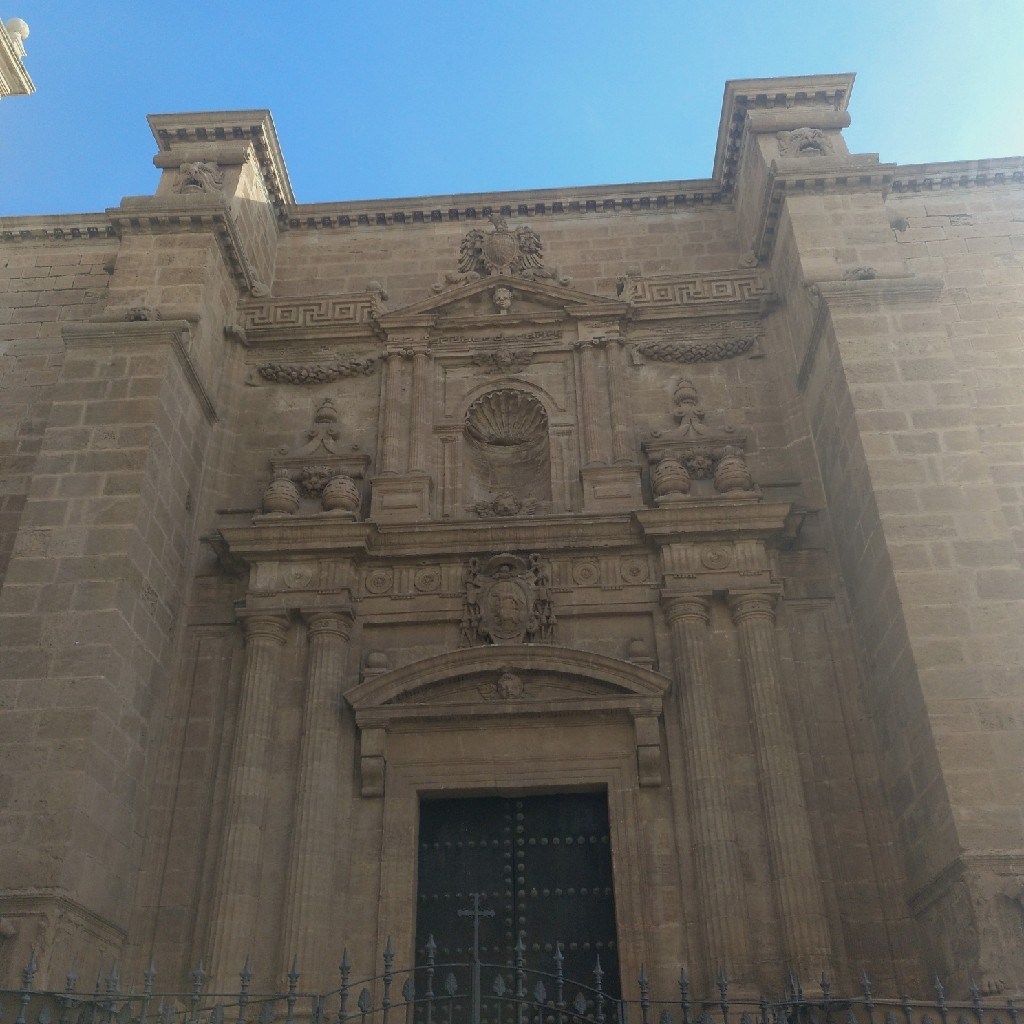fronton: (381, 273, 624, 329)
fronton-curvo: (345, 641, 675, 740)
vano-adintelado: (368, 732, 653, 1024)
